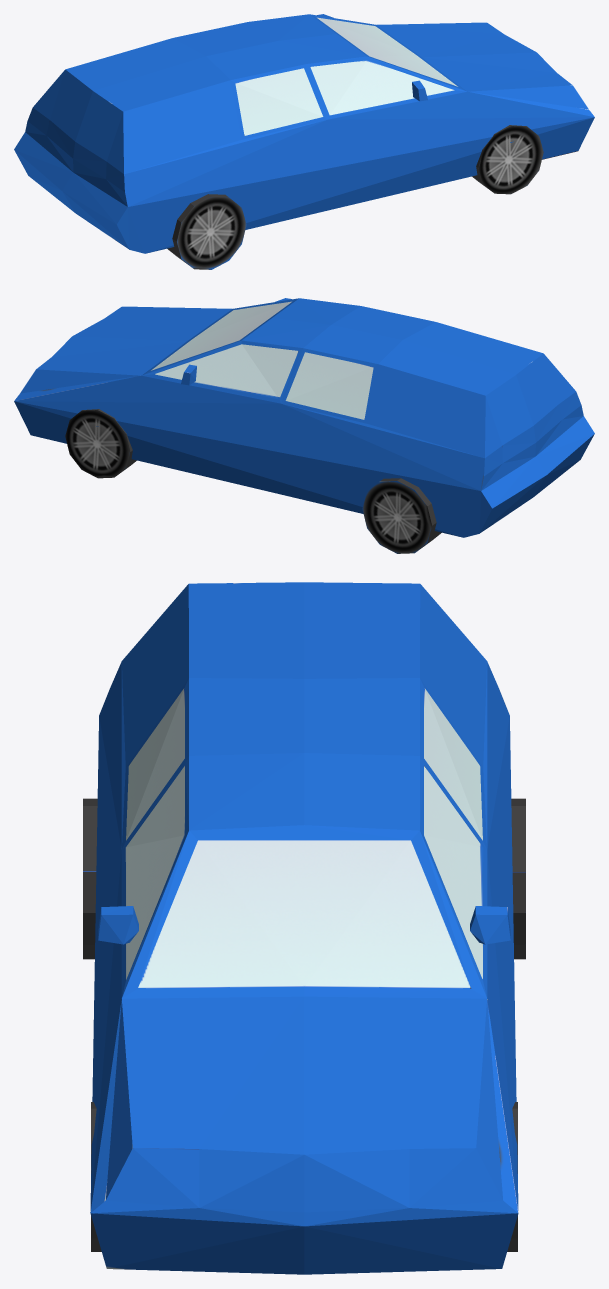
File: car5.obj
The picture shows the model from 3 angles, top to bottom: view 1: azimuth 30°, elevation 25°; view 2: azimuth 150°, elevation 25°; view 3: azimuth 270°, elevation 25°; orthographic projection. The views are drawn at different scales.
Visible parts, largest first — view 1: vehicleWagon_GEO_Cube.078; view 2: vehicleWagon_GEO_Cube.078; view 3: vehicleWagon_GEO_Cube.078.
Part boxes in pixels (<box>): vehicleWagon_GEO_Cube.078: <box>14,14,594,269</box>; vehicleWagon_GEO_Cube.078: <box>14,298,594,553</box>; vehicleWagon_GEO_Cube.078: <box>83,582,525,1274</box>.
Size of the model in its own units: 0.354 by 0.1121 by 0.1398.
1 material, 1 textured.
